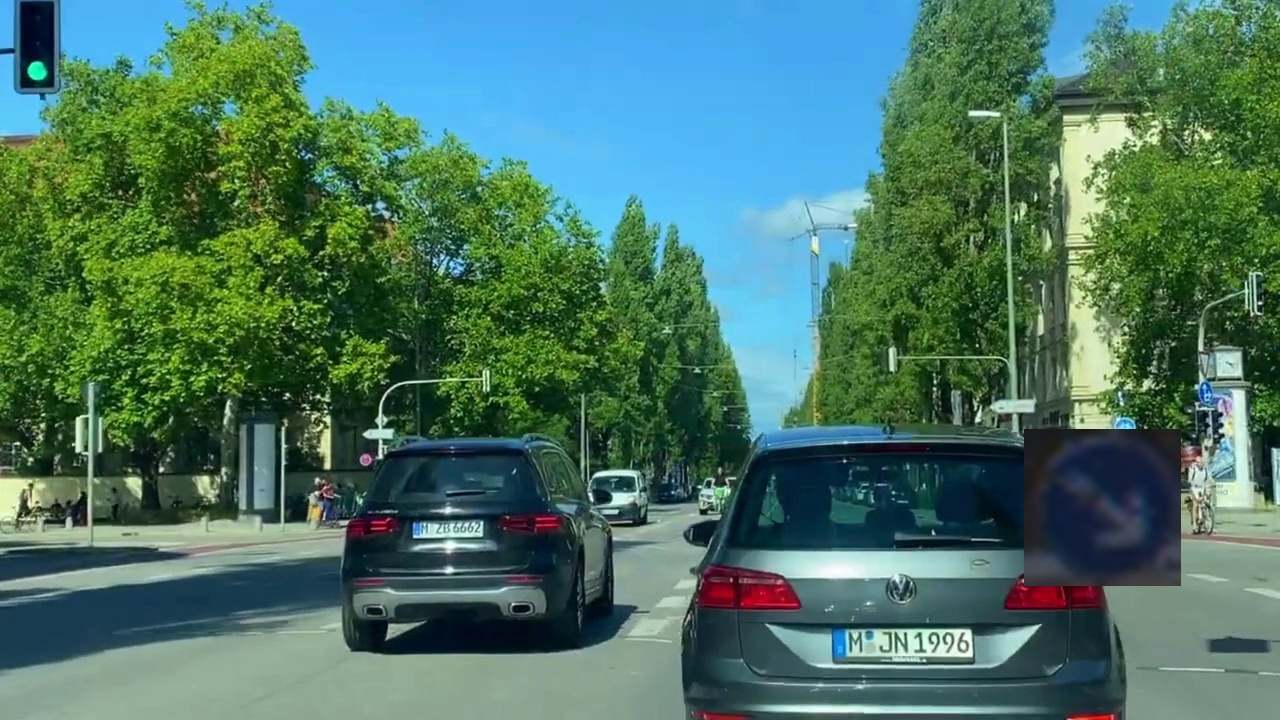Keep right: (1024, 429, 1181, 586)
